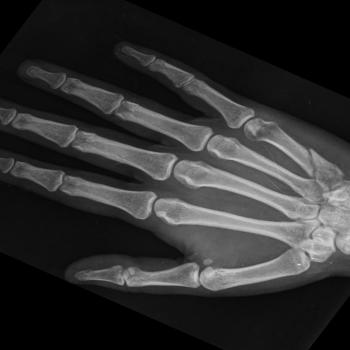Fracture: (303, 146, 321, 178)
